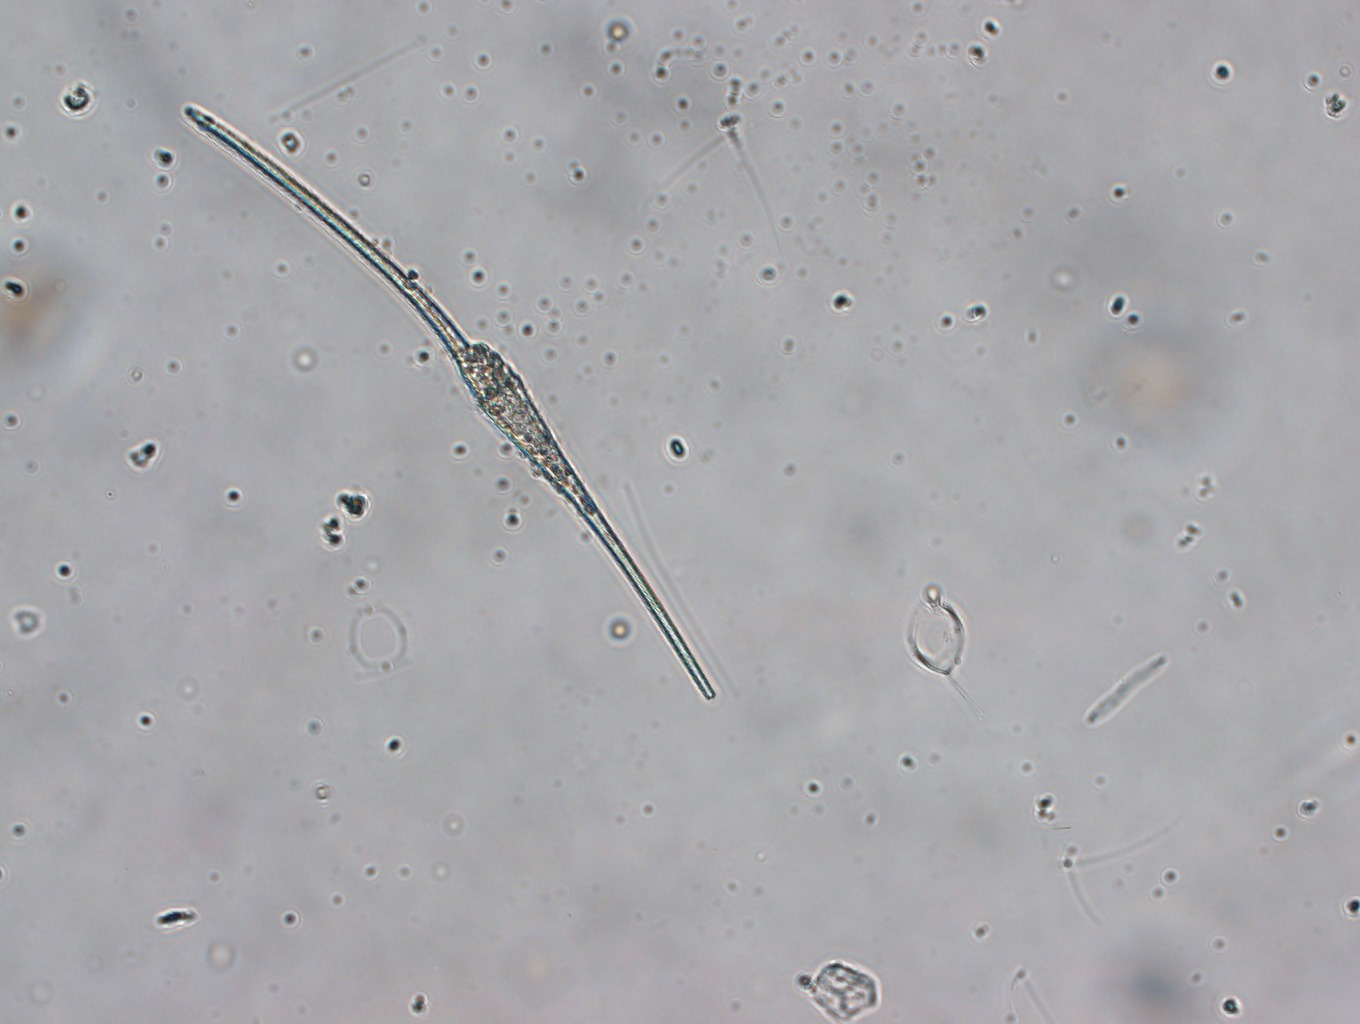ceratium fusus: (184, 106, 715, 702)
